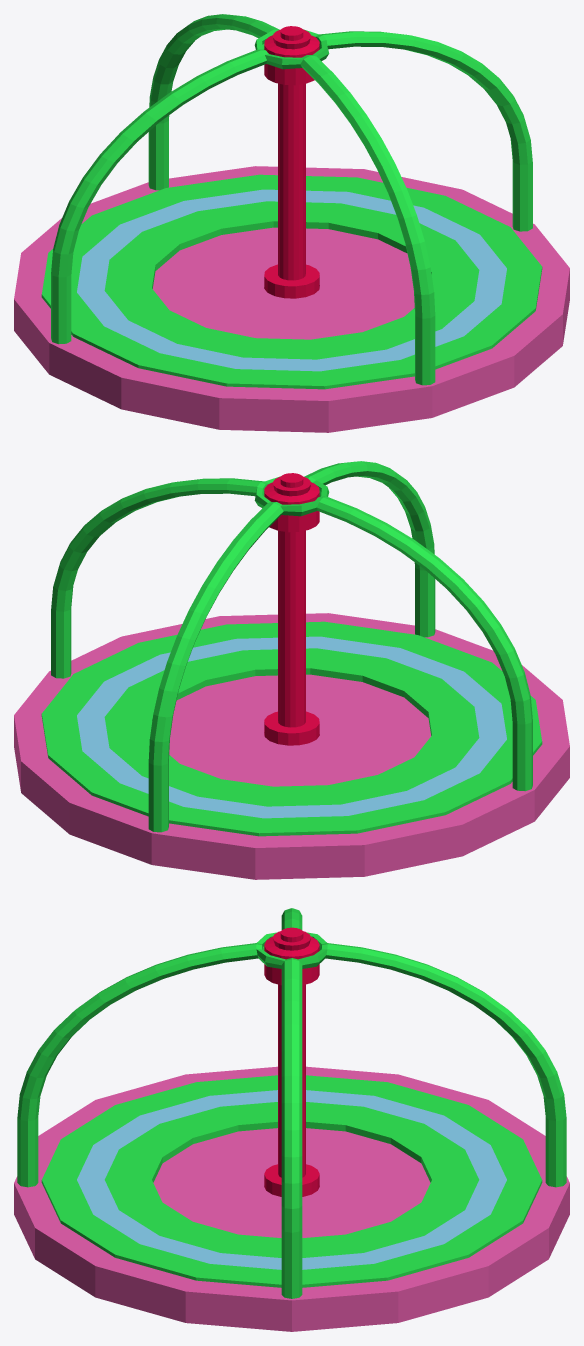
File: Roundabout.fbx
3 renders of one model, top to bottom at view 1: azimuth 30°, elevation 25°; view 2: azimuth 150°, elevation 25°; view 3: azimuth 270°, elevation 25°, orthographic.
Visible parts, largest first — view 1: Roundabout, Roundabout Base; view 2: Roundabout, Roundabout Base; view 3: Roundabout, Roundabout Base.
Part boxes in pixels (x1=…): Roundabout: x1=14, y1=14, x2=569, y2=432; Roundabout Base: x1=264, y1=26, x2=319, y2=298; Roundabout: x1=14, y1=461, x2=569, y2=879; Roundabout Base: x1=264, y1=473, x2=319, y2=745; Roundabout: x1=14, y1=908, x2=569, y2=1331; Roundabout Base: x1=264, y1=927, x2=319, y2=1196.
Bounding box in the file's own units: 200 × 112 × 200.
